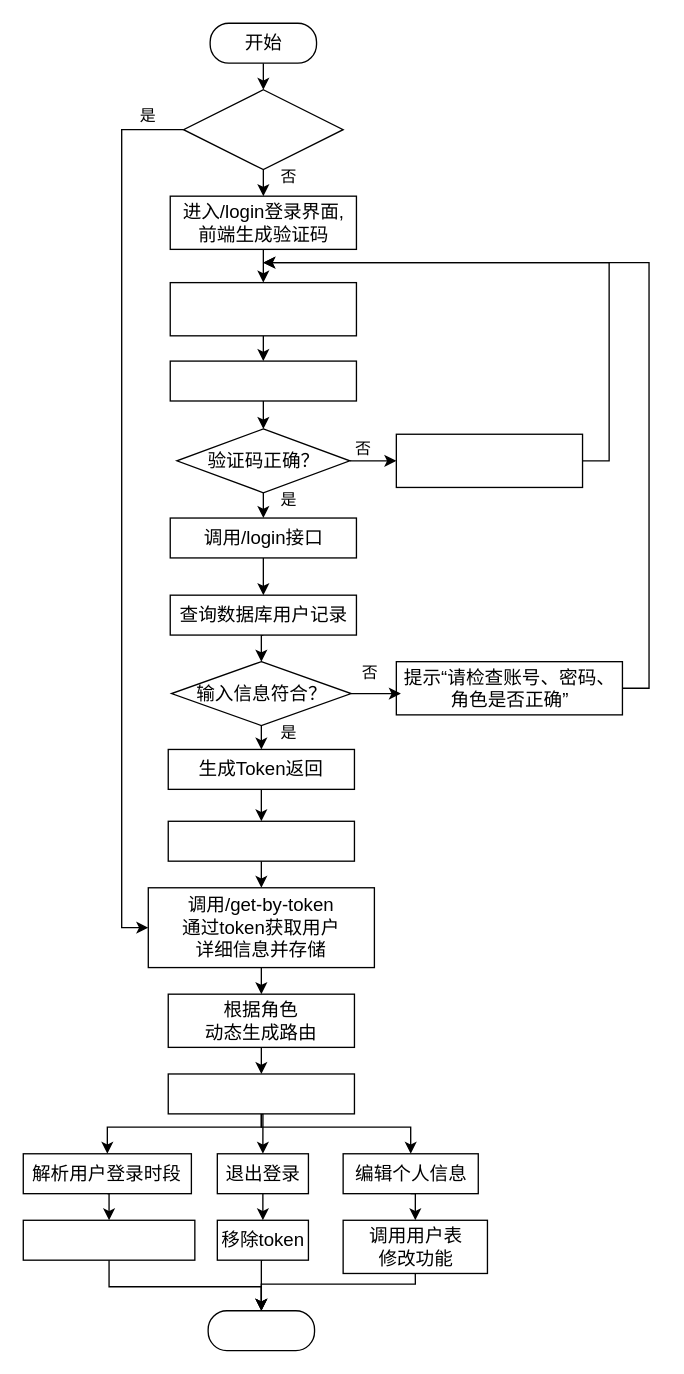
The diagram is 684 pixels wide and 1374 high, and some of its shapes have lost their labels. Here are the shapes that lost their labels. From the top down, the centre of each, then its label:
the point at 262,129: 本地缓存 存在token
the point at 262,308: 用户输入账号,密码,角色类型,验证码
the point at 262,380: 提交登录请求
the point at 489,460: 提示“验证码错误”
the point at 260,840: 前端存储Token
the point at 260,1093: 进入首页
the point at 108,1239: 显示登陆轨迹
the point at 261,1330: 结束
